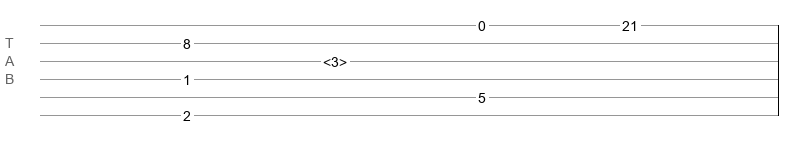0: (478, 18, 486, 28)
1: (183, 72, 191, 82)
2: (183, 108, 191, 118)
21: (622, 18, 638, 28)
5: (478, 90, 486, 100)
8: (183, 36, 191, 46)
harmonic: (323, 54, 347, 64)
